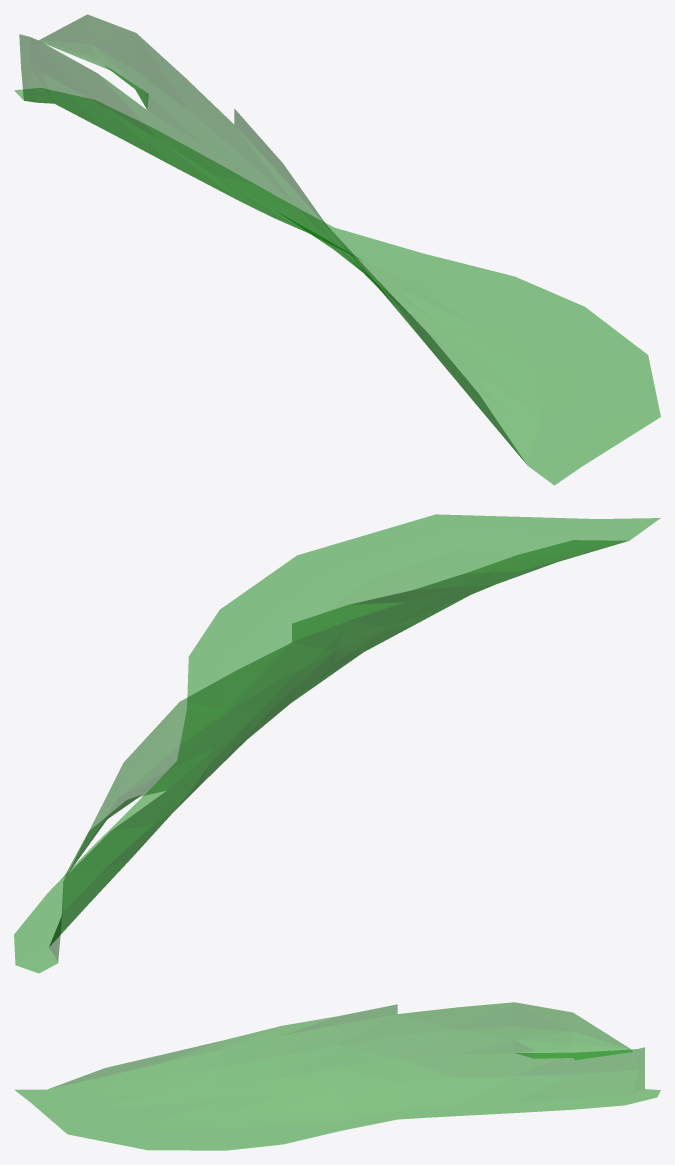
Rendered from quicksand01.obj.
The picture shows the model from 3 angles, top to bottom: view 1: azimuth 30°, elevation 25°; view 2: azimuth 150°, elevation 25°; view 3: azimuth 270°, elevation 25°; orthographic projection. The views are drawn at different scales.
Bounding box in the file's own units: 19.92 × 13.08 × 86.77.
